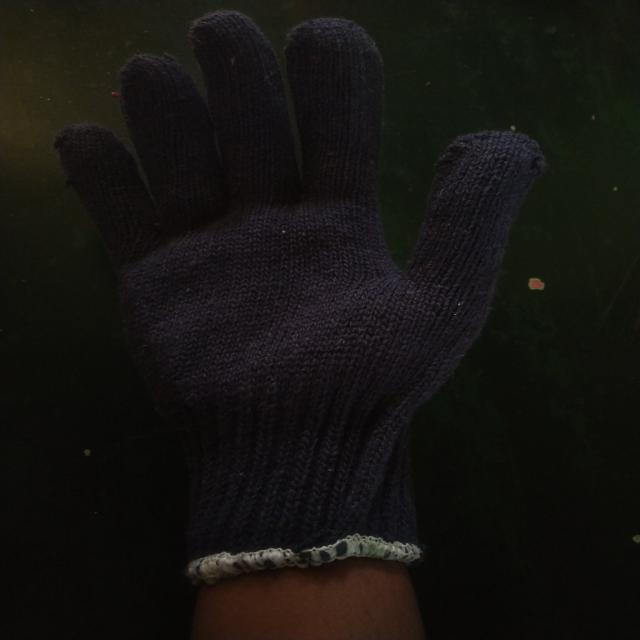Gloves: (58, 7, 543, 590)
